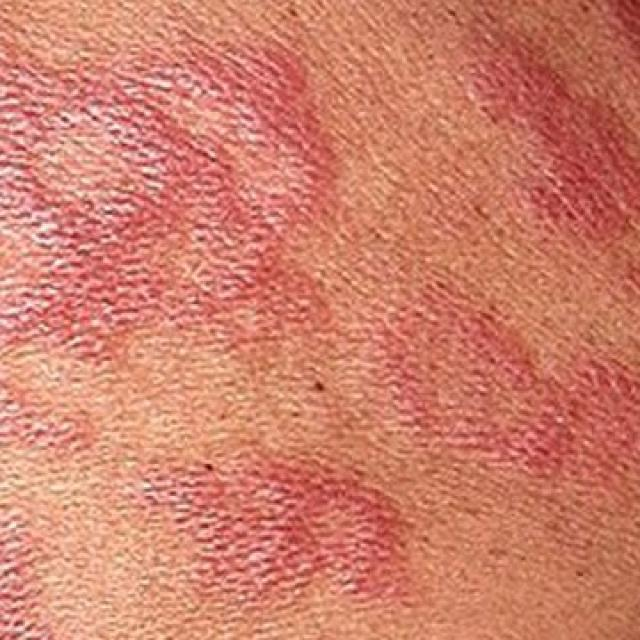Leprosy: (3, 42, 329, 448), (372, 265, 638, 482), (426, 16, 638, 246), (105, 460, 443, 601), (0, 503, 84, 638)
